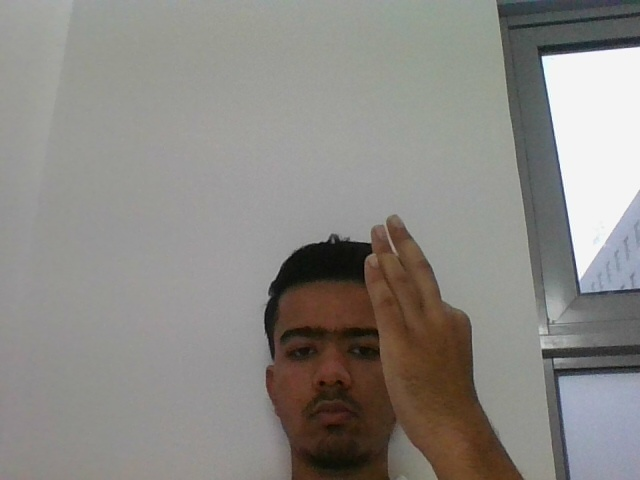ok: (359, 211, 488, 434)
